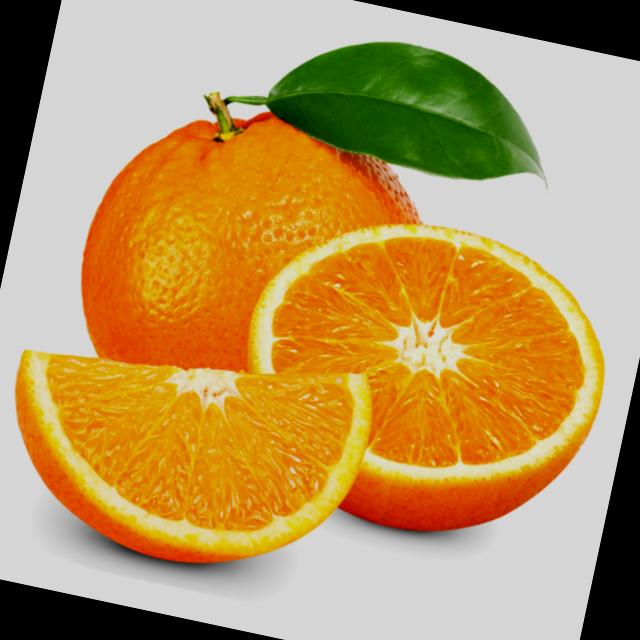orange: (35, 77, 446, 479)
